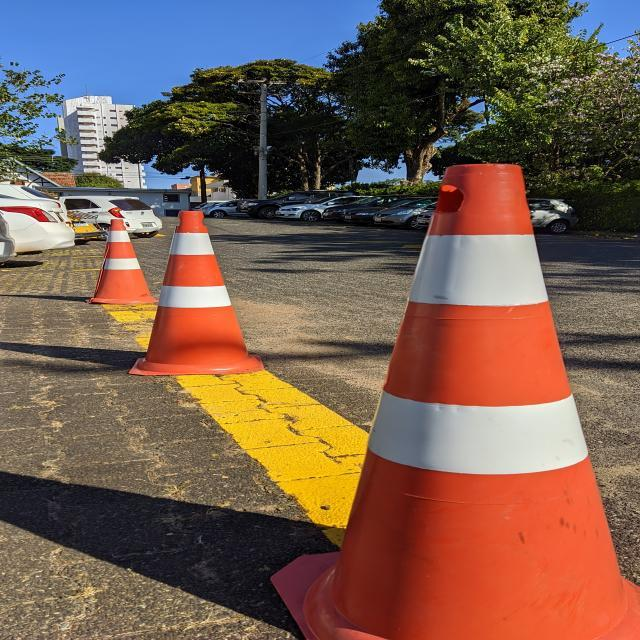Cone: (262, 160, 640, 640), (124, 204, 270, 380), (83, 216, 162, 306)
